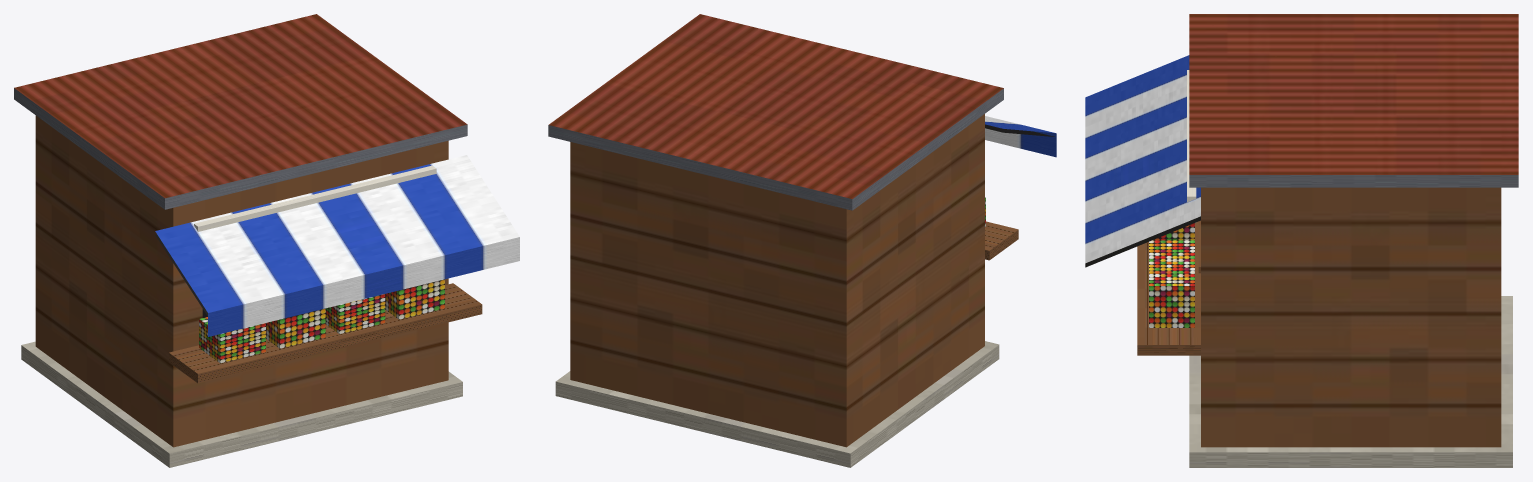
The model's file is kiosk-blue-far.glb.
3 renders of one model, left to right at view 1: azimuth 30°, elevation 25°; view 2: azimuth 150°, elevation 25°; view 3: azimuth 270°, elevation 25°, orthographic. The views are drawn at different scales.
Parts seen in each view (by area): view 1: kiosk-blue; view 2: kiosk-blue; view 3: kiosk-blue.
Part boxes in pixels (<box>): kiosk-blue: <box>14,14,519,467</box>; kiosk-blue: <box>548,14,1056,467</box>; kiosk-blue: <box>1085,14,1518,467</box>.
Bounding box in the file's own units: 3.4 × 2.82 × 3.75.
1 material, 1 textured.
